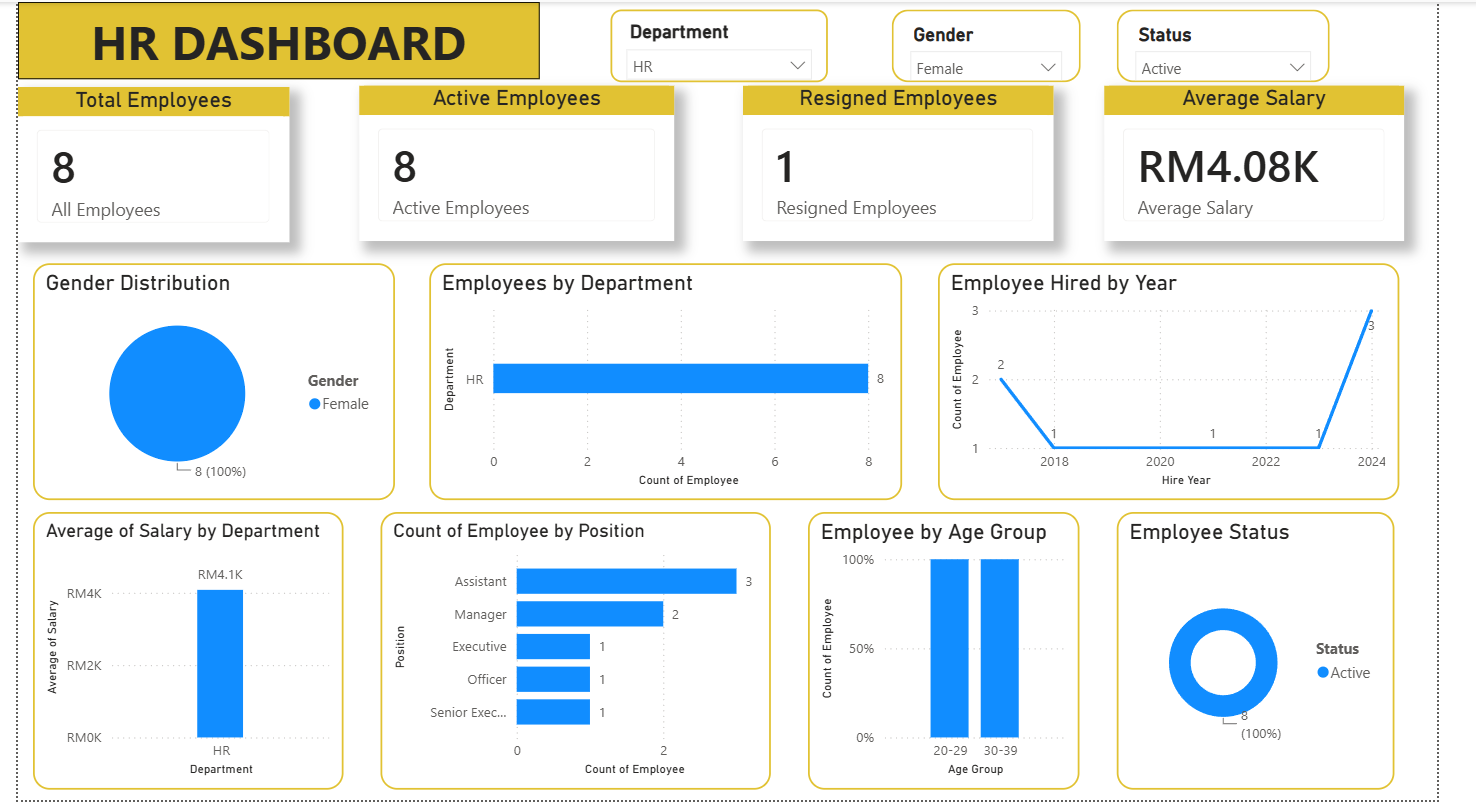

The dashboard page shown, as its layout file describes it:
{"tool":"powerbi","page":{"name":"HR_Dashboard_Overview","canvas":[1280,720],"ordinal":1},"visuals":[{"type":"cardVisual","title":"Total Employees","fields":{"Data":["Employee_Data.Total Employees"]},"box":[0,76.1,244.6,140],"z":0},{"type":"cardVisual","title":"Active Employees","fields":{"Data":["Employee_Data.Active Employees"]},"box":[307.4,75.5,284,140],"z":1},{"type":"cardVisual","title":"Resigned Employees","fields":{"Data":["Employee_Data.Resigned Employees"]},"box":[653.2,75.5,279.9,140],"z":2},{"type":"cardVisual","title":"Average Salary","fields":{"Data":["Employee_Data.Average Salary"]},"box":[979.8,75.5,270.3,140],"z":3},{"type":"pieChart","title":"Gender Distribution","fields":{"Category":["Employee_Data.Gender"],"Y":["CountNonNull(Employee_Data.Employee )"]},"box":[13.6,235.1,326.2,213.4],"z":5},{"type":"clusteredBarChart","title":" Employees  by Department","fields":{"Category":["Employee_Data.Department"],"Y":["CountNonNull(Employee_Data.Employee )"]},"box":[371,235.1,426.8,213.4],"z":6},{"type":"clusteredColumnChart","fields":{"Category":["Employee_Data.Department"],"Y":["Avg(Employee_Data.Salary)"]},"box":[13.6,459.4,280,250.1],"z":7},{"type":"lineChart","title":"Employee Hired by Year","fields":{"Category":["Employee_Data.Hire Year"],"Y":["CountNonNull(Employee_Data.Employee )"]},"box":[829.1,235.1,415.9,213.4],"z":8},{"type":"textbox","box":[0,0,470.7,69.4],"z":9},{"type":"donutChart","title":" Employee Status","fields":{"Category":["Employee_Data.Status"],"Y":["CountNonNull(Employee_Data.Employee )"]},"box":[990.8,459.4,250.1,250.1],"z":10},{"type":"hundredPercentStackedColumnChart","title":" Employee  by Age Group","fields":{"Category":["Employee_Data.Age Group"],"Y":["CountNonNull(Employee_Data.Employee )"]},"box":[712.6,459.4,244.6,250.1],"z":11},{"type":"barChart","fields":{"Category":["Employee_Data.Position"],"Y":["CountNonNull(Employee_Data.Employee )"]},"box":[327.1,459.4,352,250.1],"z":12},{"type":"slicer","fields":{"Values":["Employee_Data.Department"]},"box":[534.7,6.8,195.9,65.3],"z":13},{"type":"slicer","fields":{"Values":["Employee_Data.Gender"]},"box":[787.8,6.8,170.1,65.3],"z":14},{"type":"slicer","fields":{"Values":["Employee_Data.Status"]},"box":[990.5,6.8,191.8,65.3],"z":15}]}

Visuals, with their boxes in screenshot pixels (x1, y1, x2, y2):
"Total Employees" cardVisual: pyautogui.locateOnScreen(15, 87, 294, 247)
"Active Employees" cardVisual: pyautogui.locateOnScreen(366, 86, 690, 246)
"Resigned Employees" cardVisual: pyautogui.locateOnScreen(761, 86, 1080, 246)
"Average Salary" cardVisual: pyautogui.locateOnScreen(1133, 86, 1441, 246)
"Gender Distribution" pieChart: pyautogui.locateOnScreen(31, 268, 403, 512)
" Employees  by Department" clusteredBarChart: pyautogui.locateOnScreen(439, 268, 925, 512)
clusteredColumnChart - Employee_Data.Department x Avg(Employee_Data.Salary): pyautogui.locateOnScreen(31, 524, 350, 804)
"Employee Hired by Year" lineChart: pyautogui.locateOnScreen(961, 268, 1436, 512)
textbox: pyautogui.locateOnScreen(15, 0, 552, 79)
" Employee Status" donutChart: pyautogui.locateOnScreen(1146, 524, 1431, 804)
" Employee  by Age Group" hundredPercentStackedColumnChart: pyautogui.locateOnScreen(828, 524, 1107, 804)
barChart - Employee_Data.Position x CountNonNull(Employee_Data.Employee ): pyautogui.locateOnScreen(389, 524, 790, 804)
slicer - Employee_Data.Department: pyautogui.locateOnScreen(625, 8, 849, 82)
slicer - Employee_Data.Gender: pyautogui.locateOnScreen(914, 8, 1108, 82)
slicer - Employee_Data.Status: pyautogui.locateOnScreen(1145, 8, 1364, 82)
